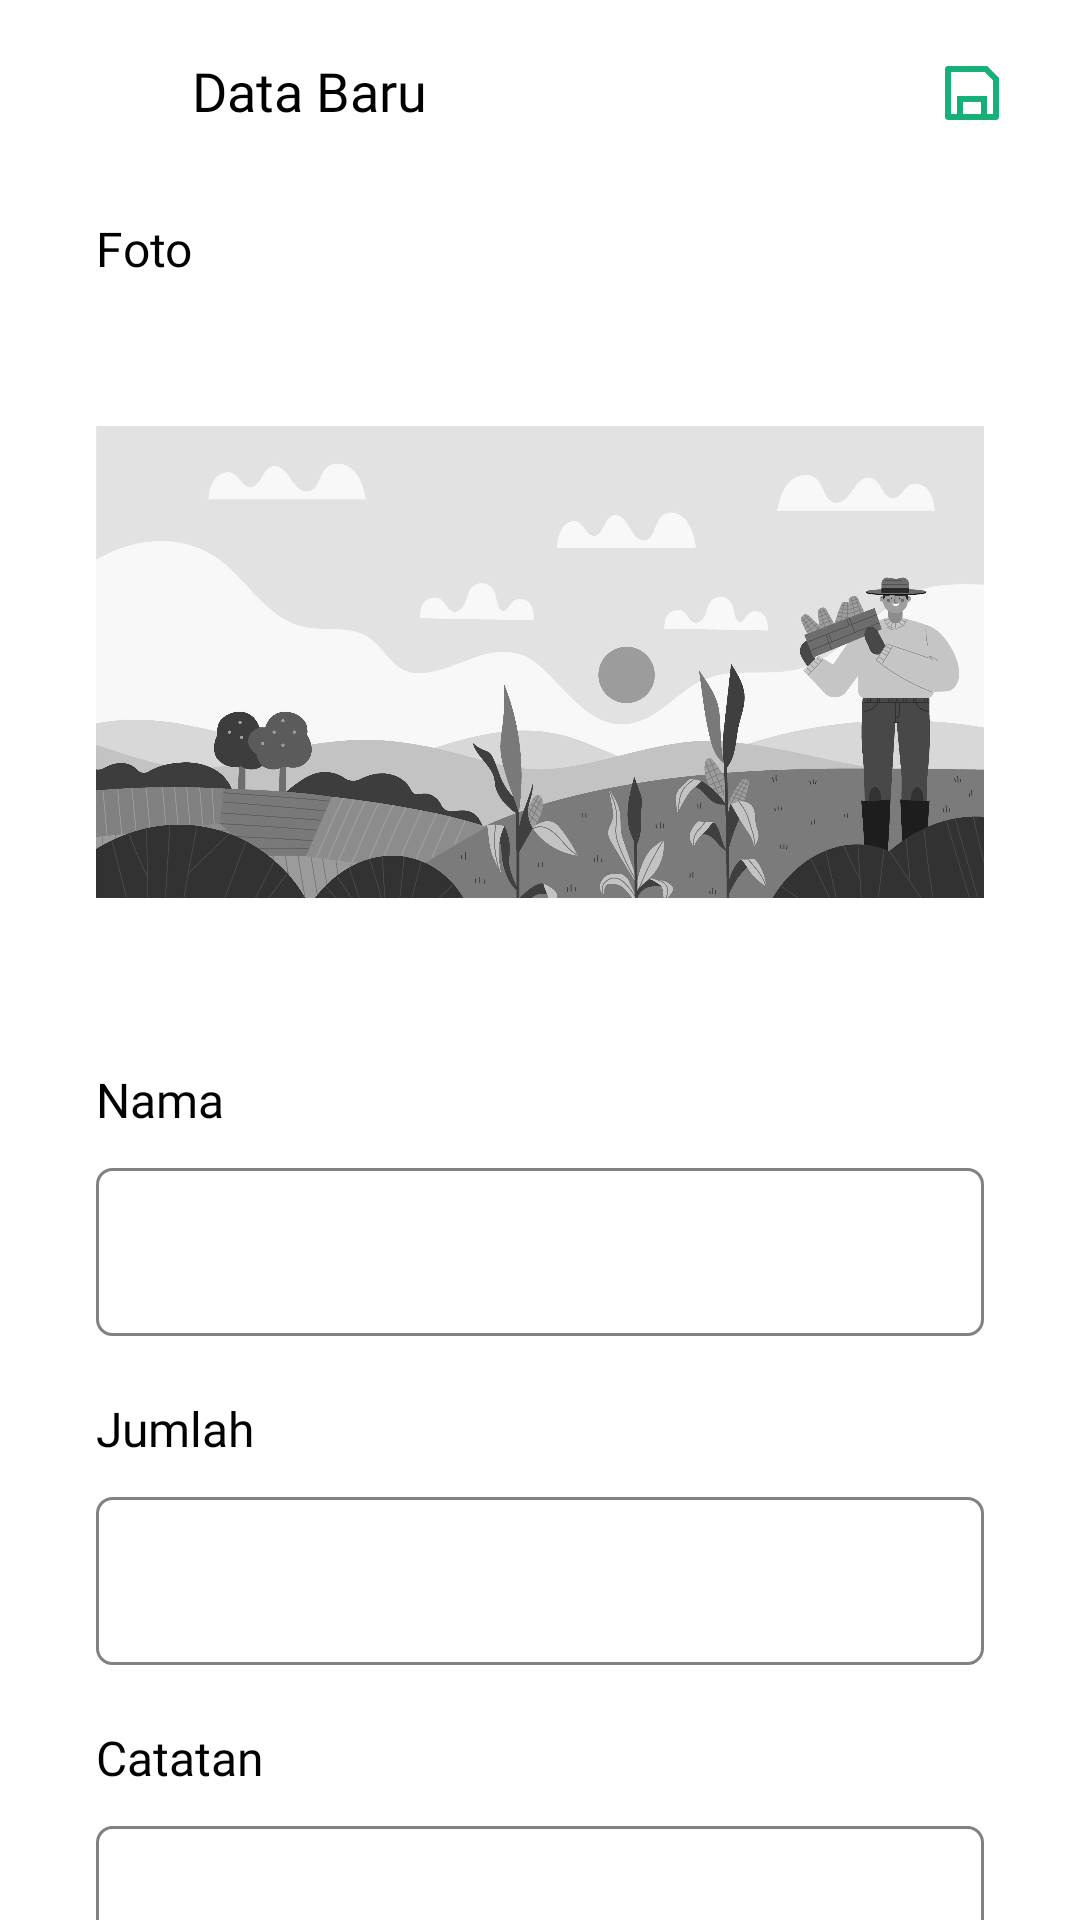

Icons on this 1080*1920 Android screen, each with the point to tap as (x,y):
save: (972,93)
